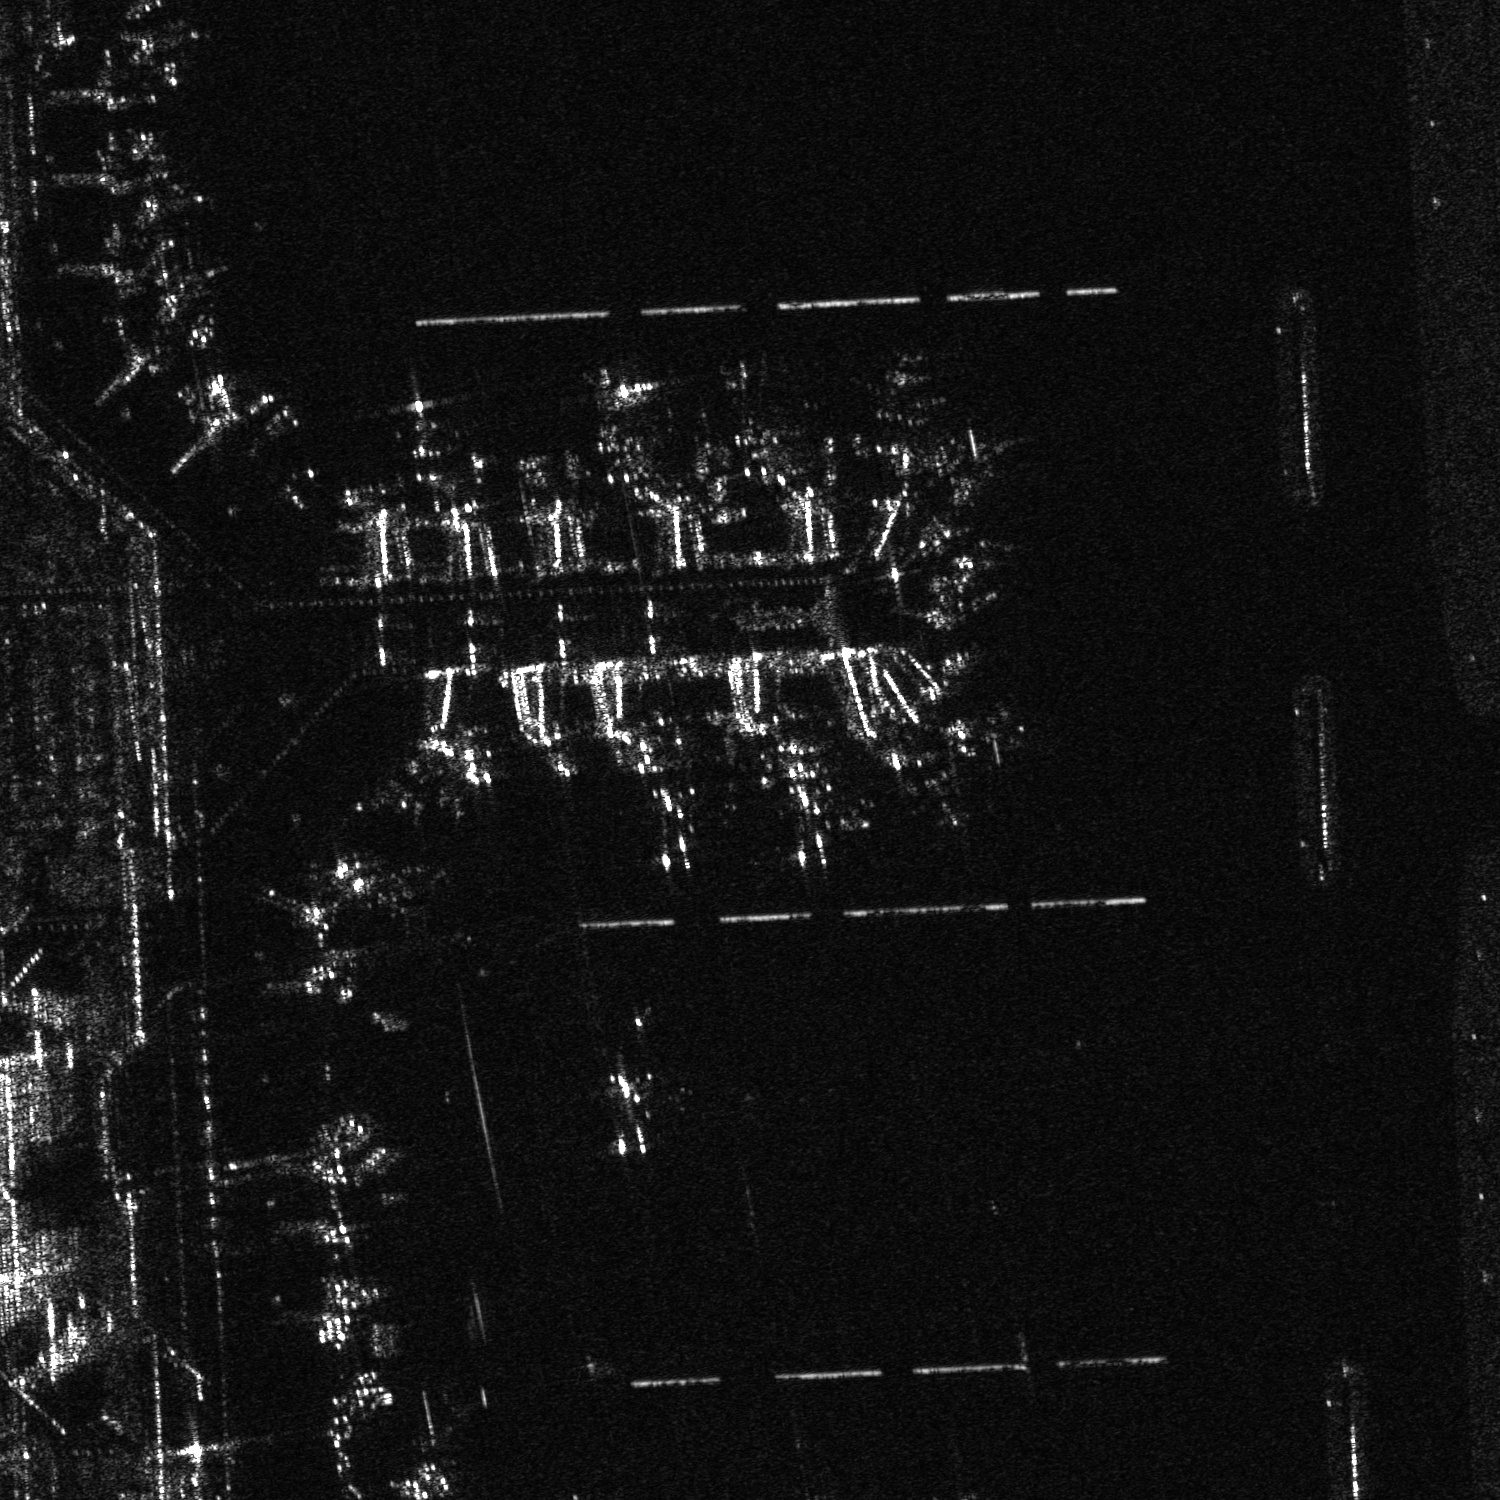A220: (107, 161, 214, 240), (386, 386, 451, 438)
A320/321: (764, 755, 861, 865), (867, 364, 945, 431), (588, 364, 665, 423)
Boeing737: (901, 749, 971, 834)
Boeing787: (628, 775, 709, 874)
other: (591, 1071, 663, 1158)
